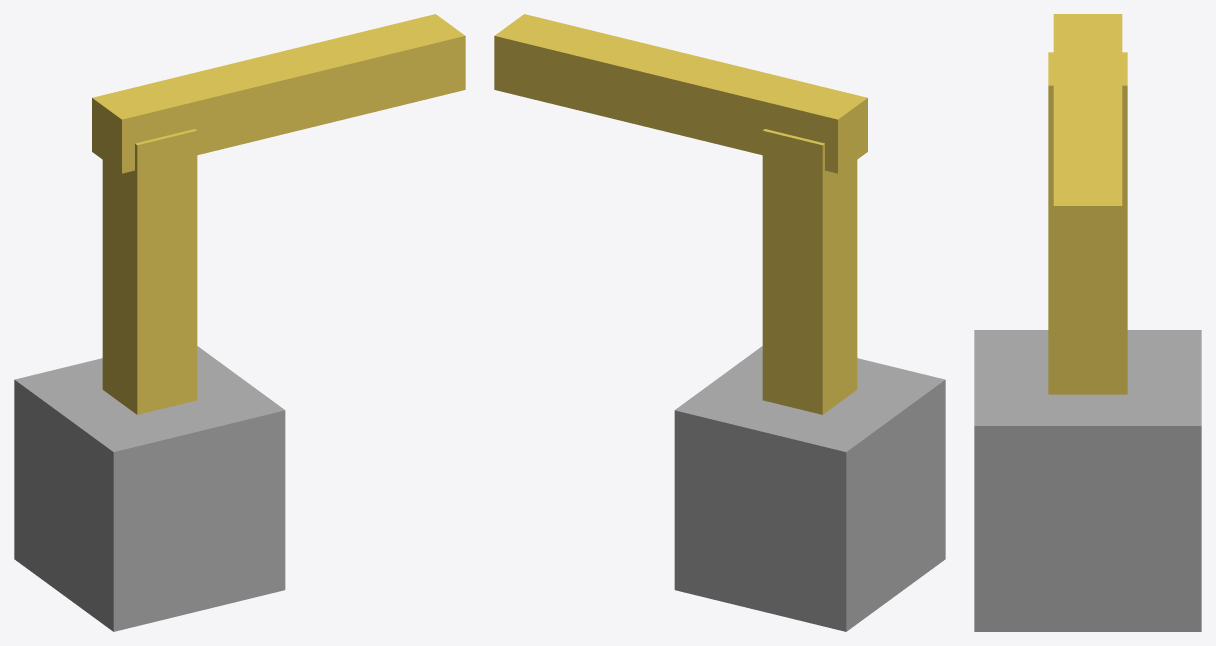
File: fixed_quay_crane.glb
3 renders of one model, left to right at view 1: azimuth 30°, elevation 25°; view 2: azimuth 150°, elevation 25°; view 3: azimuth 270°, elevation 25°, orthographic. The views are drawn at different scales.
Visible parts, largest first — view 1: quaybase, quayarm, quaymast; view 2: quaybase, quayarm, quaymast; view 3: quaybase, quayarm, quaymast.
Boxes of the visible parts, x1,y1,x2,y2 form: quaybase: (14,346,285,631); quayarm: (92,14,465,173); quaymast: (102,129,197,414); quaybase: (674,346,945,631); quayarm: (494,14,867,173); quaymast: (762,129,857,414); quaybase: (974,330,1201,631); quayarm: (1053,14,1122,267); quaymast: (1048,52,1127,394).
Size of the model in its own units: 4.5 by 5.3 by 2.
